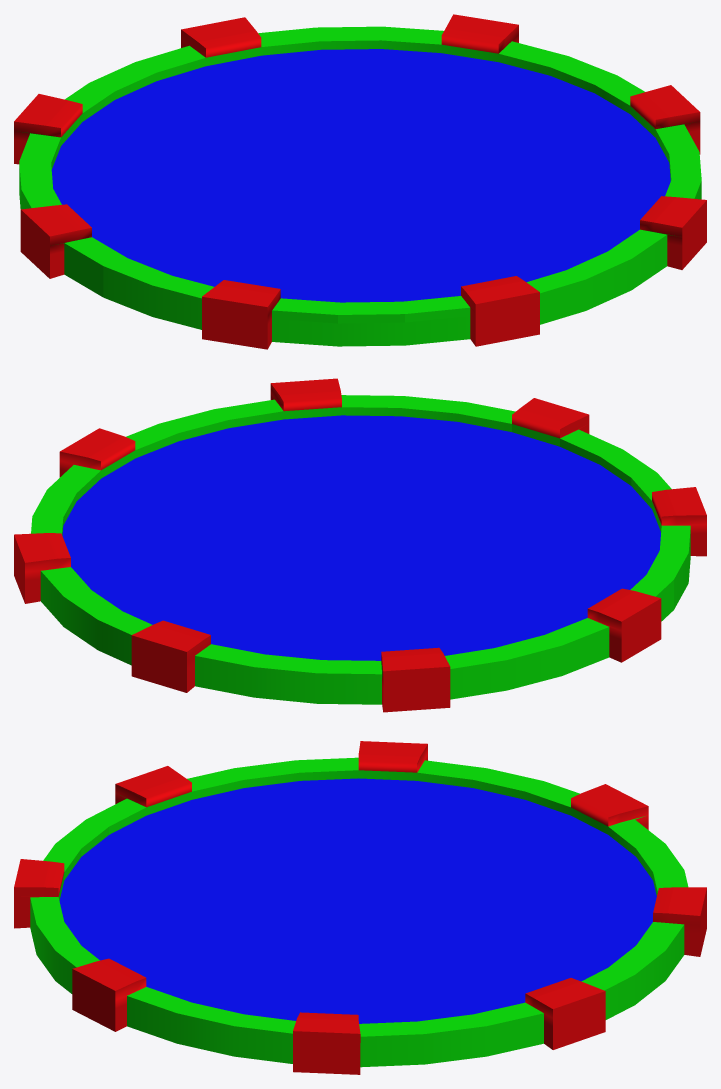
The model's file is circularplanter.fbx.
3 views of the same model, one above another, from view 1: azimuth 30°, elevation 25°; view 2: azimuth 150°, elevation 25°; view 3: azimuth 270°, elevation 25° (orthographic). The views are drawn at different scales.
Visible parts, largest first — view 1: Cylinder; view 2: Cylinder; view 3: Cylinder.
Boxes of the visible parts, left/top/right/bottom form: Cylinder: left=14, top=14, right=706, bottom=349; Cylinder: left=14, top=378, right=706, bottom=712; Cylinder: left=14, top=741, right=706, bottom=1074.
Size of the model in its own units: 923 by 60.32 by 923.
